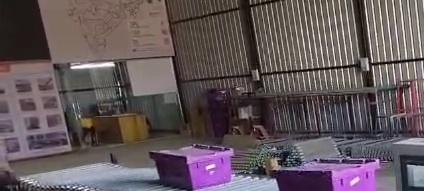box: (149, 144, 232, 189), (276, 159, 379, 190)
